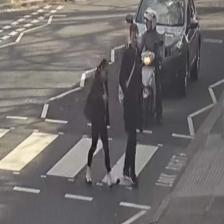person: (84, 58, 119, 186), (118, 23, 142, 185), (136, 6, 162, 124)
